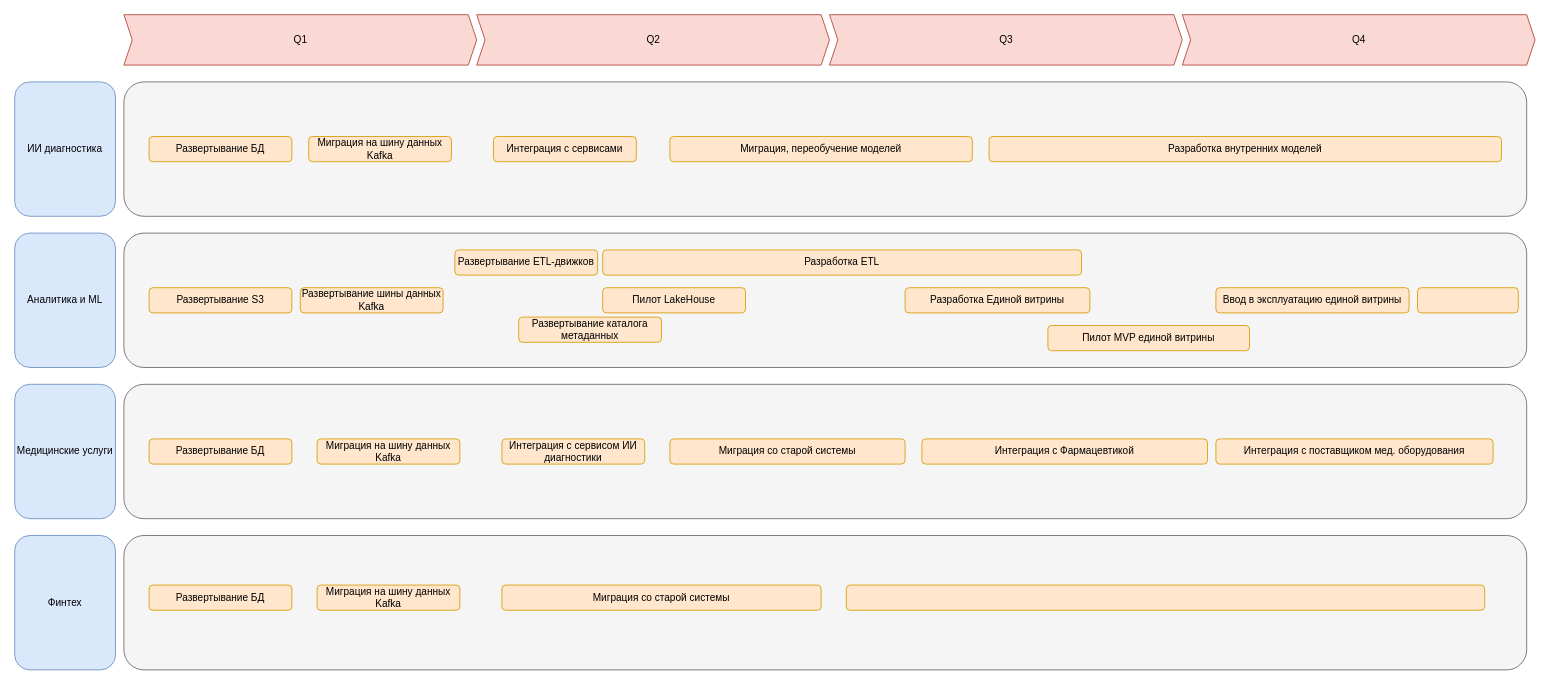
This 1550x685 diagram has some shape labels left out. The shapes that lost their labels are listed below. From the top down, each one's centre as x and y in pixels, then its label:
At point (1467, 300): "Вывод из эксплуатации DWH".
At point (1165, 597): "Разработка новых фичей".
